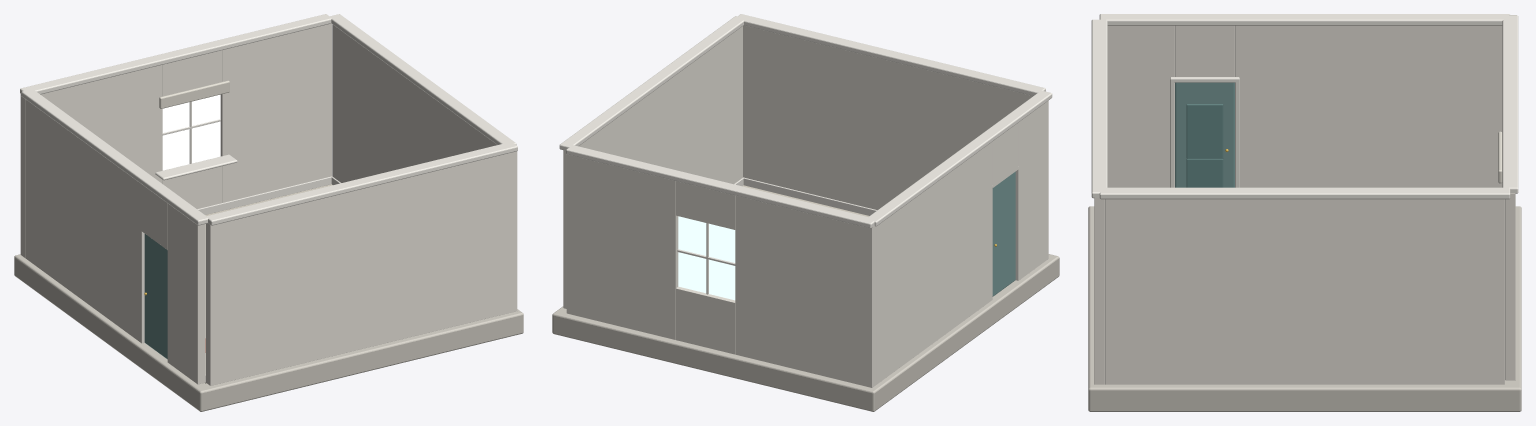
Rendered from villa_room_shell.glb.
3 renders of one model, left to right at view 1: azimuth 30°, elevation 25°; view 2: azimuth 150°, elevation 25°; view 3: azimuth 270°, elevation 25°, orthographic. The views are drawn at different scales.
Parts seen in each view (by area): view 1: wall_front, wall_back, wall_left, wall_right, slab, window_glass, leaf, window_frame, window_blind; view 2: wall_back, wall_front, wall_left, wall_right, slab, window_glass, leaf; view 3: wall_right, wall_left, slab, wall_front, wall_back, leaf, panel-top, door_frame, panel-bottom.
Part boxes in pixels (bbox=[...]): wall_front: bbox=[205, 142, 517, 385]; wall_back: bbox=[20, 14, 331, 257]; wall_left: bbox=[21, 90, 208, 384]; wall_right: bbox=[330, 14, 516, 184]; slab: bbox=[14, 254, 523, 411]; window_glass: bbox=[162, 94, 220, 170]; leaf: bbox=[144, 234, 167, 359]; window_frame: bbox=[155, 101, 237, 180]; window_blind: bbox=[159, 80, 229, 108]; wall_back: bbox=[566, 145, 876, 387]; wall_front: bbox=[736, 14, 1045, 215]; wall_left: bbox=[868, 90, 1052, 384]; wall_right: bbox=[559, 16, 743, 308]; slab: bbox=[552, 254, 1059, 411]; window_glass: bbox=[678, 216, 735, 300]; leaf: bbox=[992, 171, 1015, 296]; wall_right: bbox=[1099, 187, 1510, 384]; wall_left: bbox=[1099, 14, 1509, 187]; slab: bbox=[1088, 206, 1521, 411]; wall_front: bbox=[1091, 19, 1107, 384]; wall_back: bbox=[1502, 15, 1518, 380]; leaf: bbox=[1175, 82, 1234, 187]; panel-top: bbox=[1186, 104, 1223, 158]; door_frame: bbox=[1170, 77, 1239, 187]; panel-bottom: bbox=[1186, 158, 1223, 187].
Size of the model in its own units: 6.5 by 3.6 by 6.5.
